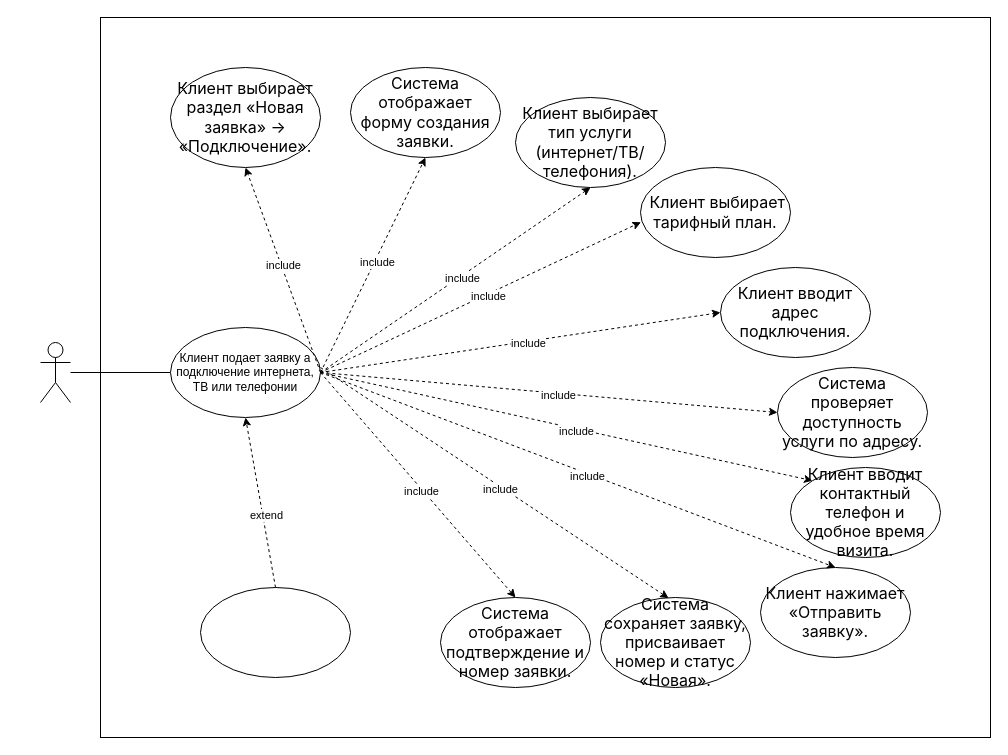
Image size: 1008x755. Some labels were removed from this diagram. The centre of each missing label's shape, as x and y in pixels:
Опратор Call- центра: [55,372]
сообщение «Ошибка сохранения заявки. Повторите попытку».: [275,632]
